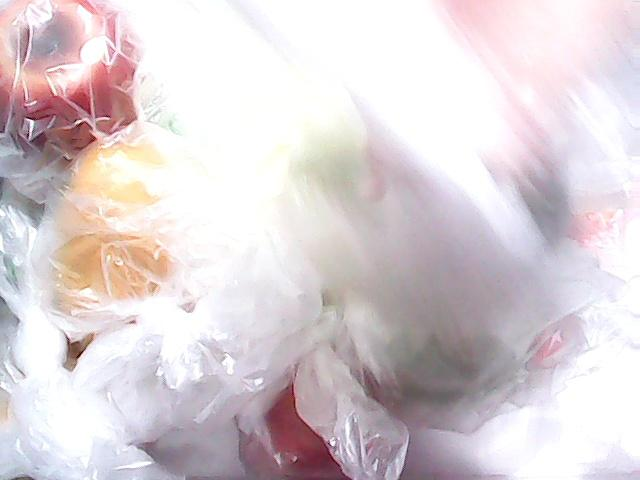apple: (0, 0, 162, 160)
carrot: (520, 172, 628, 372)
lemon: (40, 142, 174, 316)
peach: (236, 346, 390, 480)
